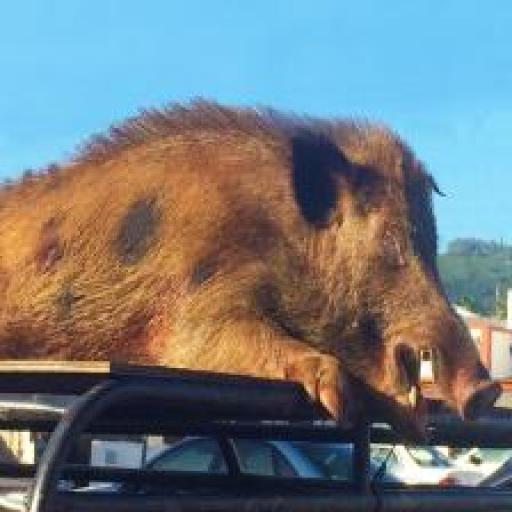Pig: (0, 94, 503, 446)
